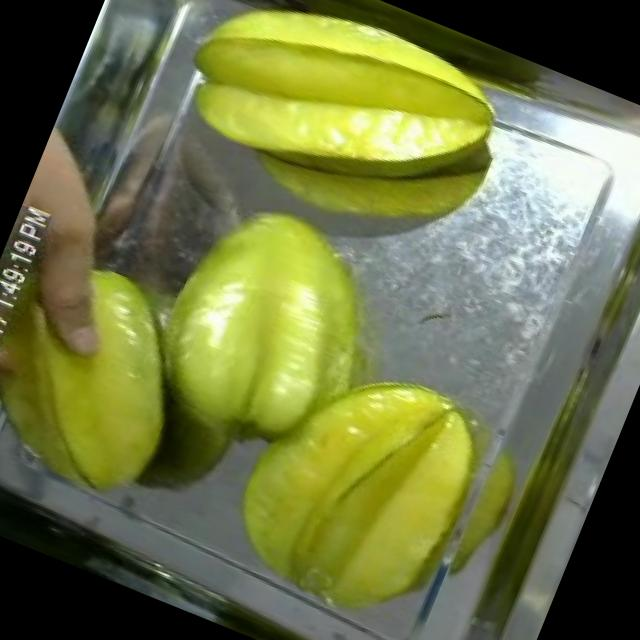fruit: (137, 0, 535, 264), (194, 320, 518, 640), (112, 162, 424, 492), (0, 220, 234, 526)
